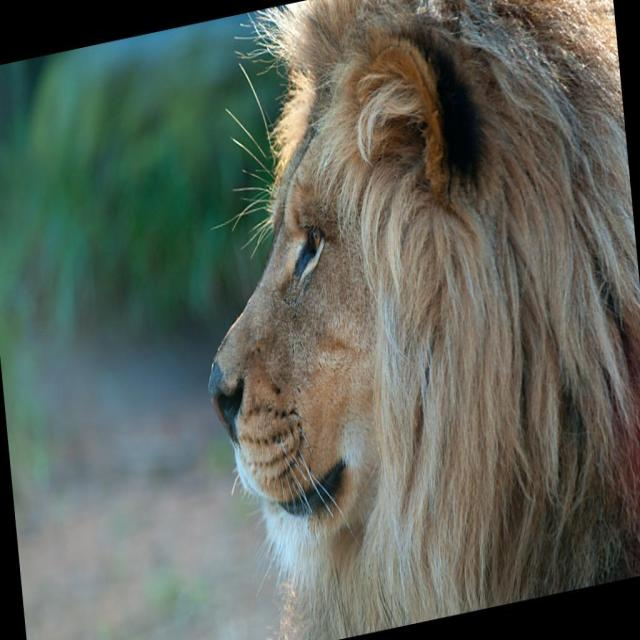Lion: (175, 0, 640, 639)
